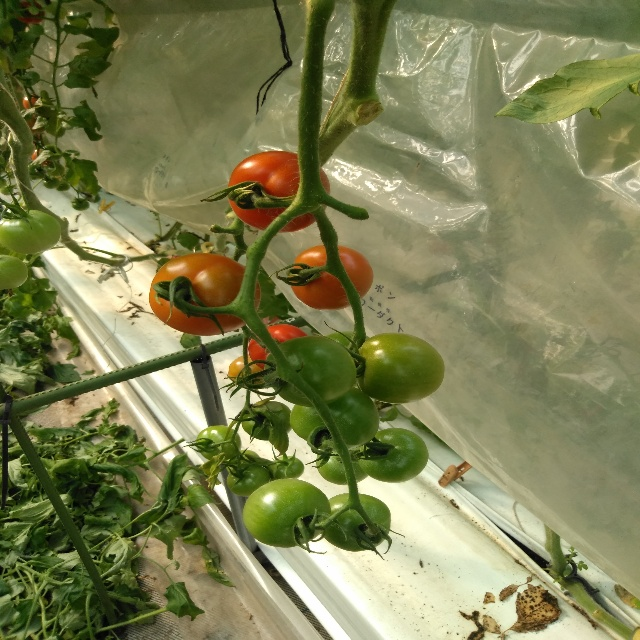l_fully_ripened: (229, 151, 331, 233), (248, 324, 308, 369)
l_green: (264, 335, 356, 408), (354, 332, 444, 404), (242, 478, 331, 548), (290, 386, 379, 452), (321, 493, 391, 552), (357, 428, 429, 483), (1, 209, 62, 254), (316, 445, 368, 486), (242, 401, 292, 441), (196, 425, 242, 462), (226, 462, 271, 497), (0, 254, 28, 290), (270, 455, 306, 480), (226, 450, 262, 474)
l_half_ripened: (149, 253, 261, 337), (287, 244, 373, 311), (228, 354, 271, 389)
